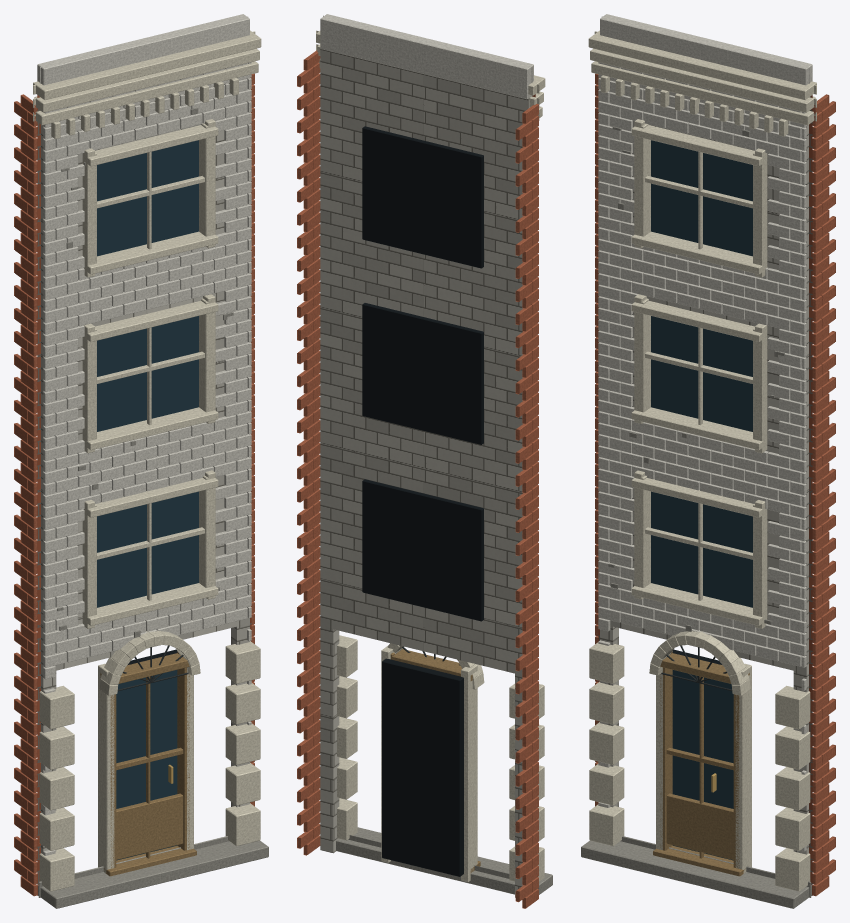
The model's file is OFFC18_lod0.glb.
3 views of the same model, side by side, from view 1: azimuth 30°, elevation 25°; view 2: azimuth 150°, elevation 25°; view 3: azimuth 330°, elevation 25° (orthographic).
Parts seen in each view (by area): view 1: OFFC18_FRONT_LOD0; view 2: OFFC18_FRONT_LOD0; view 3: OFFC18_FRONT_LOD0.
Boxes of the visible parts, x1,y1,x2,y2 form: OFFC18_FRONT_LOD0: (14, 14, 268, 908); OFFC18_FRONT_LOD0: (297, 14, 552, 908); OFFC18_FRONT_LOD0: (581, 14, 835, 908).
Bounding box in the file's own units: 3.44 × 12.26 × 1.02.
16 materials, 13 textured.
